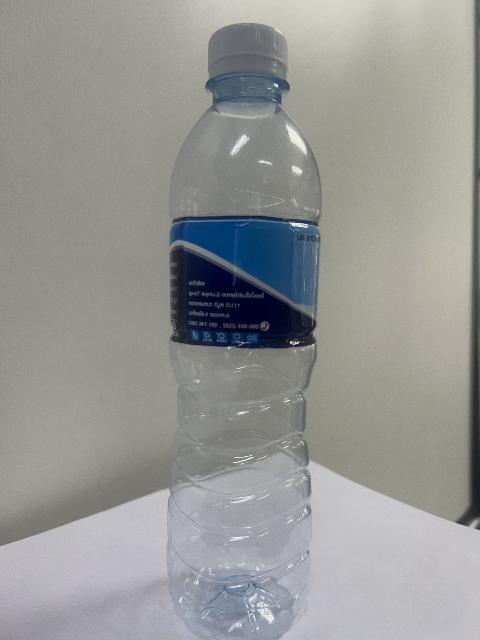bottle: (167, 24, 319, 639)
